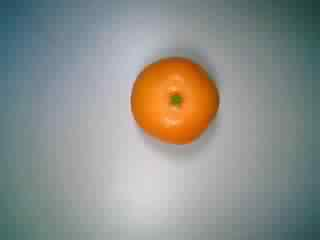orange: (127, 44, 222, 146)
